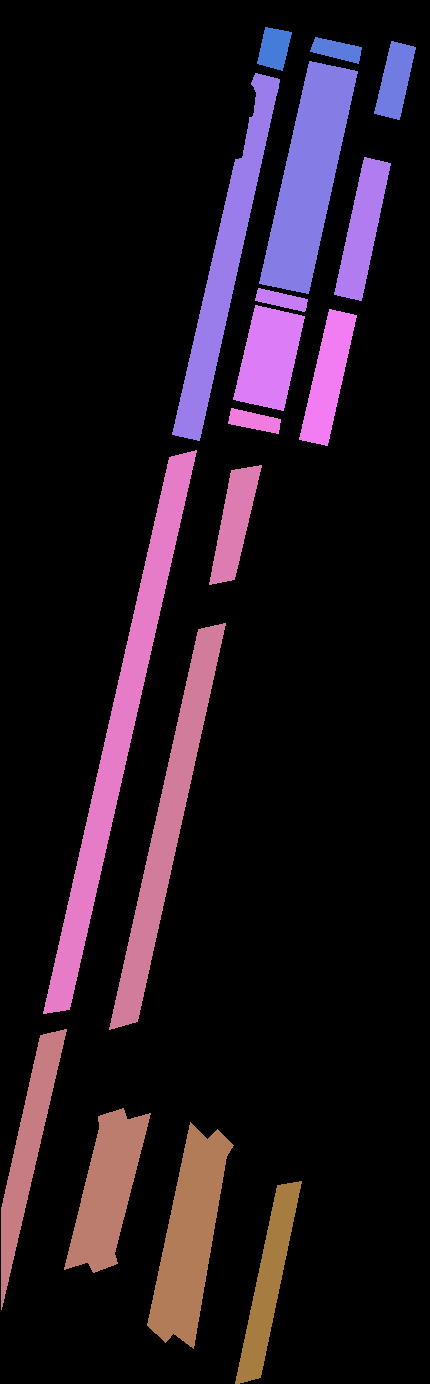parkingspot: (43, 450, 196, 1013), (109, 623, 225, 1029), (172, 83, 277, 440), (259, 61, 357, 293), (1, 1029, 66, 1309), (147, 1122, 208, 1342), (235, 1181, 301, 1384), (173, 1129, 233, 1348), (64, 1108, 127, 1269), (87, 1113, 150, 1272), (334, 157, 390, 300), (299, 309, 356, 445), (233, 305, 304, 410), (209, 465, 261, 584), (374, 41, 415, 119), (257, 27, 291, 70), (310, 37, 361, 63), (228, 408, 280, 433), (255, 288, 307, 311), (251, 73, 279, 92)
